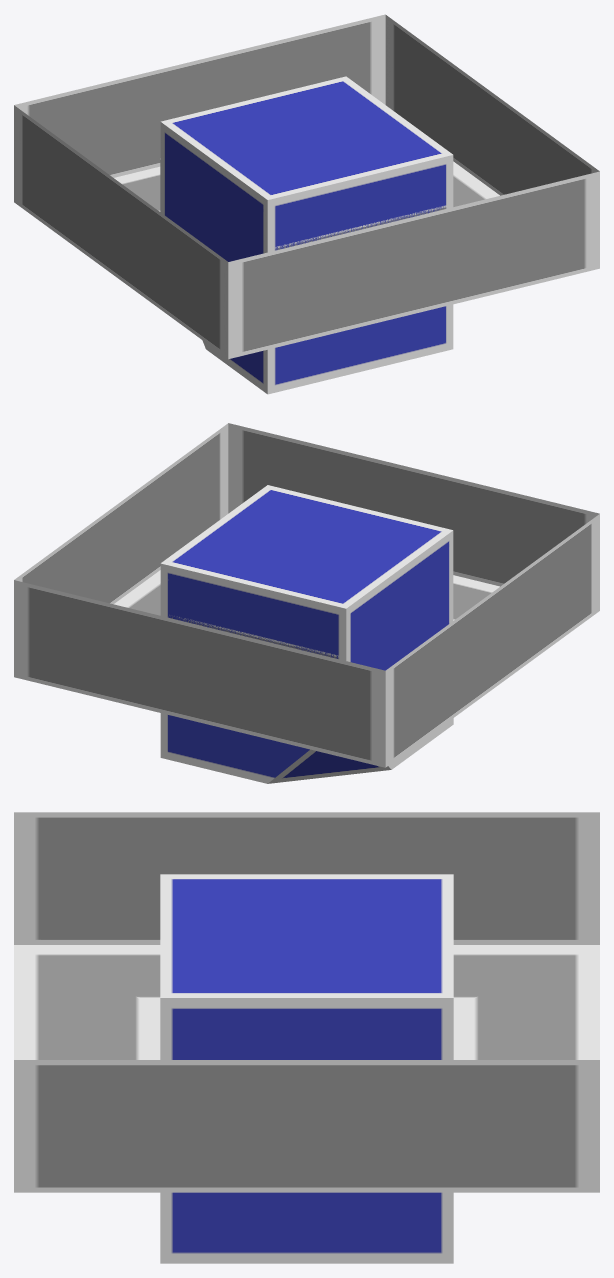
The model's file is puzzle_done.dae.
3 renders of one model, top to bottom at view 1: azimuth 30°, elevation 25°; view 2: azimuth 150°, elevation 25°; view 3: azimuth 270°, elevation 25°, orthographic. The views are drawn at different scales.
Visible parts, largest first — view 1: puzzle_done; view 2: puzzle_done; view 3: puzzle_done.
Part boxes in pixels (x1,y1,x2,y2): puzzle_done: (14, 14, 599, 394); puzzle_done: (14, 423, 599, 783); puzzle_done: (14, 812, 599, 1263).
Size of the model in its own units: 0.4 by 0.4 by 0.2.
2 materials, 2 textured.
